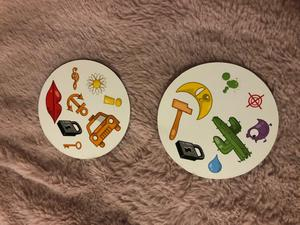ancre: (65, 90, 90, 118)
bouche: (44, 78, 63, 125)
cactus: (209, 114, 253, 161)
cadenas: (174, 138, 206, 163), (54, 119, 84, 138)
cible: (243, 89, 265, 112)
cle: (61, 139, 84, 150)
fleur: (85, 71, 109, 97)
goutte: (205, 153, 225, 174)
lune: (173, 81, 214, 118)
marteau: (168, 97, 193, 140)
note: (68, 64, 83, 93)
oiseau: (244, 117, 273, 144)
point_exclamation: (101, 92, 123, 111)
tache: (216, 70, 241, 97)
voiture: (85, 111, 123, 149)
